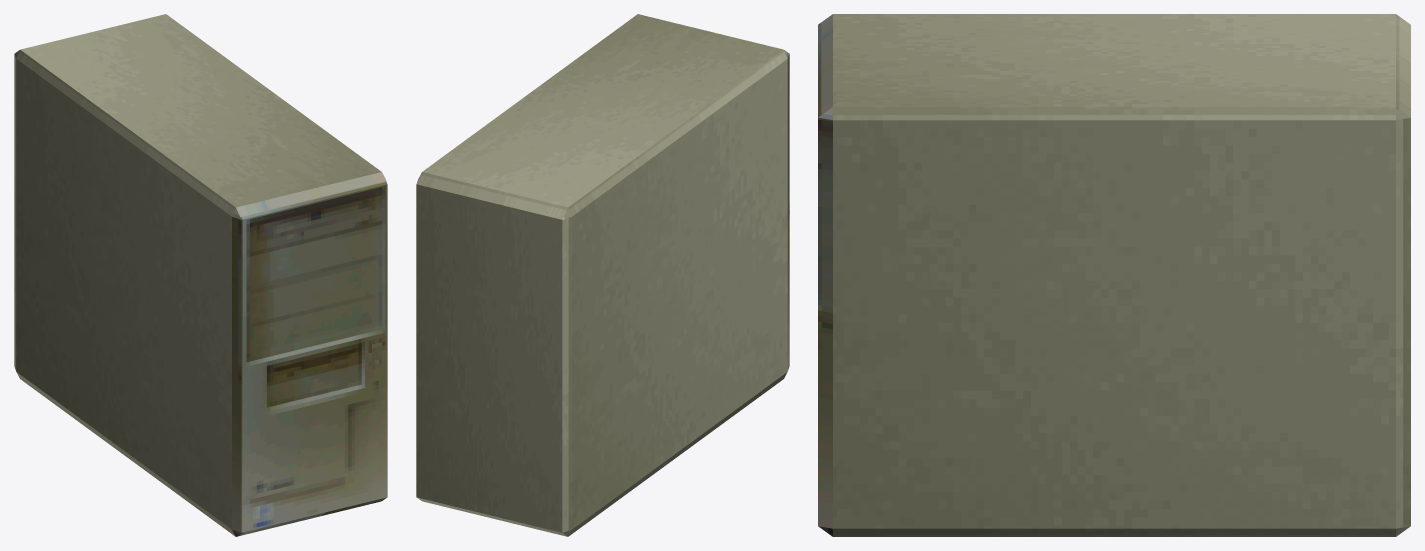
The model's file is Блок.fbx.
The picture shows the model from 3 angles, left to right: view 1: azimuth 30°, elevation 25°; view 2: azimuth 150°, elevation 25°; view 3: azimuth 270°, elevation 25°; orthographic projection. The views are drawn at different scales.
Visible parts, largest first — view 1: Cube.008; view 2: Cube.008; view 3: Cube.008.
Part boxes in pixels (x1,y1,x2,y2): Cube.008: [14, 14, 387, 536]; Cube.008: [416, 14, 789, 536]; Cube.008: [818, 14, 1410, 536].
Bounding box in the file's own units: 256 × 525 × 656.
